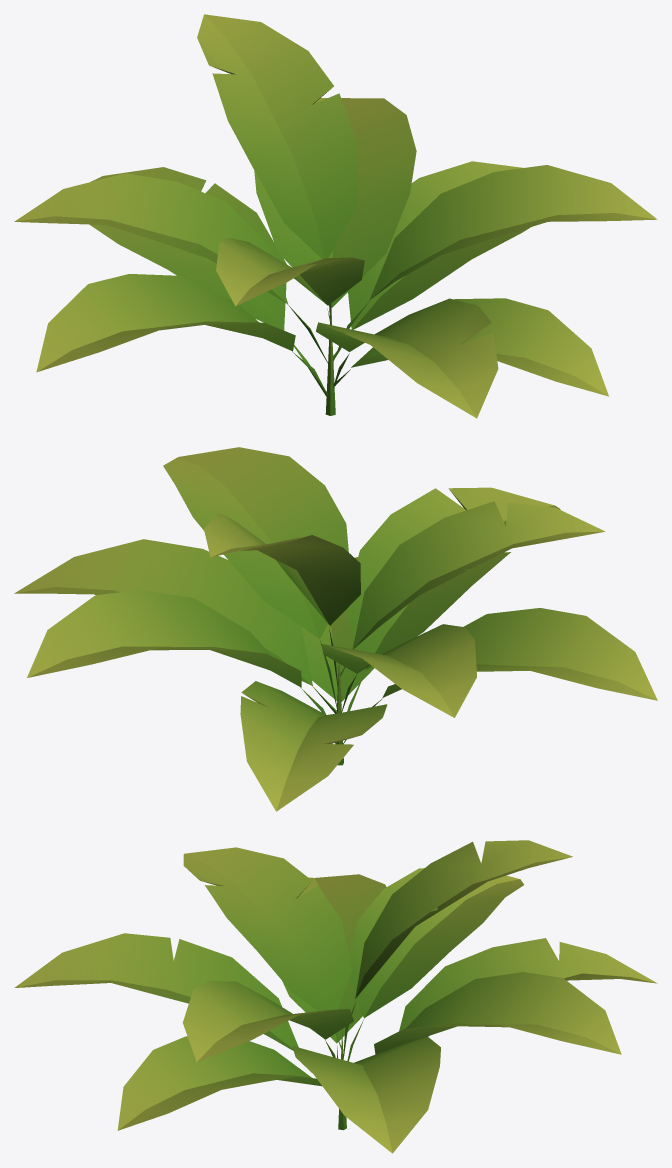
Rendered from Plant_05.fbx.
The picture shows the model from 3 angles, top to bottom: view 1: azimuth 30°, elevation 25°; view 2: azimuth 150°, elevation 25°; view 3: azimuth 270°, elevation 25°; orthographic projection. The views are drawn at different scales.
Parts seen in each view (by area): view 1: Plant_05; view 2: Plant_05; view 3: Plant_05.
Boxes of the visible parts, <box> form: Plant_05: <box>14,14,657,418</box>; Plant_05: <box>14,447,657,811</box>; Plant_05: <box>14,840,657,1153</box>.
Size of the model in its own units: 169 by 80.81 by 171.
